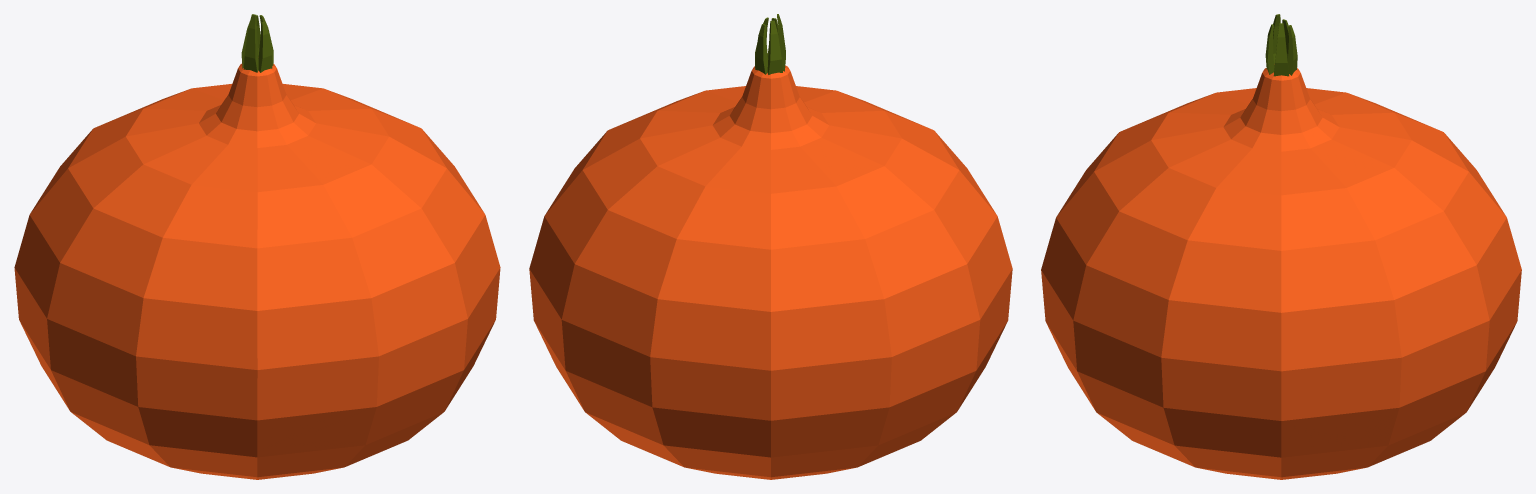
The model's file is onion.obj.
The picture shows the model from 3 angles, left to right: view 1: azimuth 30°, elevation 25°; view 2: azimuth 150°, elevation 25°; view 3: azimuth 270°, elevation 25°; orthographic projection.
Parts seen in each view (by area): view 1: onion; view 2: onion; view 3: onion.
Boxes of the visible parts, left/top/right/bottom form: onion: left=14, top=14, right=500, bottom=479; onion: left=529, top=14, right=1012, bottom=479; onion: left=1041, top=14, right=1521, bottom=479.
Bounding box in the file's own units: 1.02 × 1.03 × 1.02.
